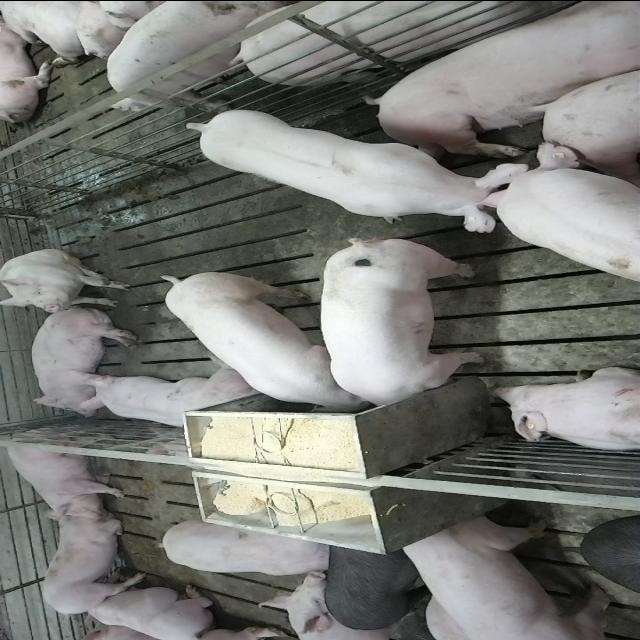Feeding: (158, 265, 368, 411), (318, 232, 484, 408)
Lateral_lying: (368, 4, 640, 158), (27, 304, 138, 418)
Sitting: (1, 248, 134, 314)
Standing: (186, 104, 524, 230), (226, 0, 580, 88), (396, 515, 624, 639), (489, 139, 640, 285), (102, 0, 296, 110), (3, 428, 131, 518), (154, 517, 330, 578), (322, 540, 428, 628)
Sternal_lying: (490, 366, 640, 454), (80, 364, 263, 432), (72, 583, 216, 639)
